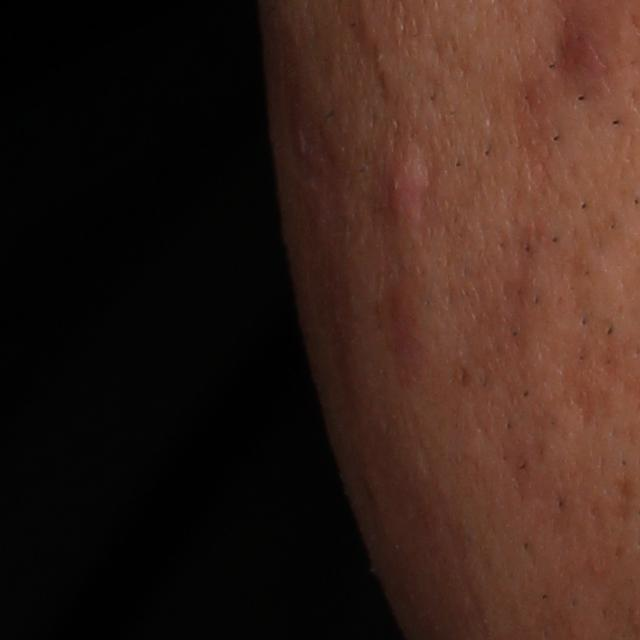papule: (385, 146, 428, 223)
